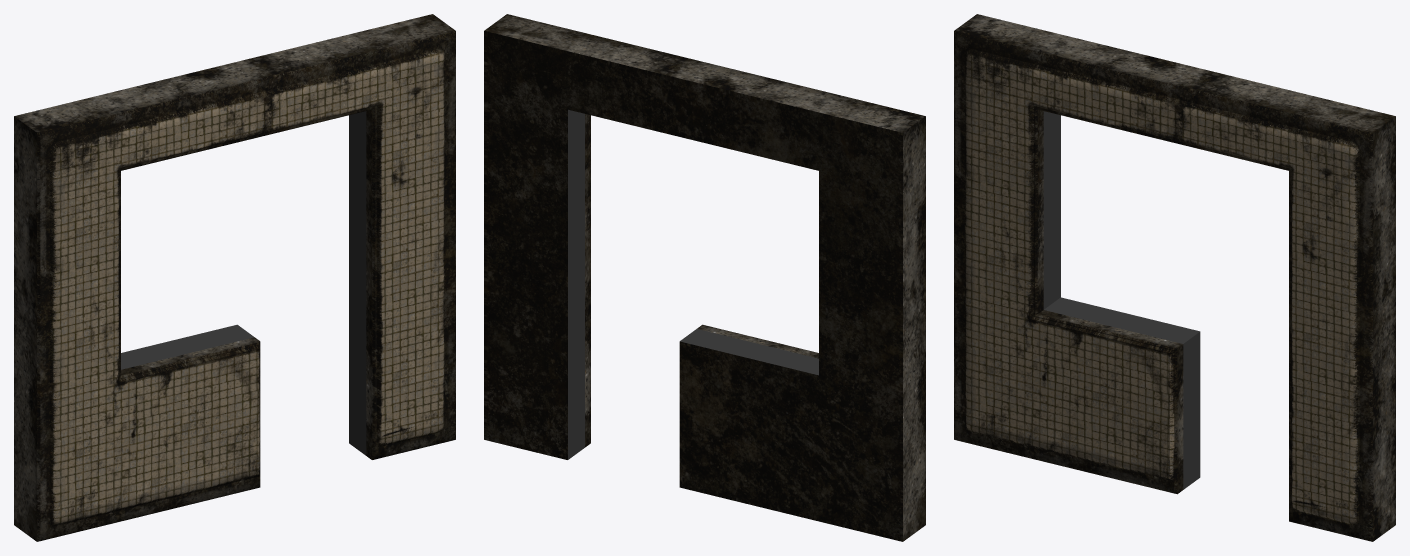
Rendered from SM_WallBalcony02.FBX.
3 renders of one model, left to right at view 1: azimuth 30°, elevation 25°; view 2: azimuth 150°, elevation 25°; view 3: azimuth 330°, elevation 25°, orthographic.
Parts seen in each view (by area): view 1: SM_WallBalcony02_LOD0; view 2: SM_WallBalcony02_LOD0; view 3: SM_WallBalcony02_LOD0.
Boxes of the visible parts, <box> form: SM_WallBalcony02_LOD0: <box>14,14,455,541</box>; SM_WallBalcony02_LOD0: <box>484,14,925,541</box>; SM_WallBalcony02_LOD0: <box>954,14,1395,541</box>.
Bounding box in the file's own units: 300 × 32.33 × 280.
